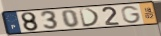0: (61, 9, 81, 29)
2: (102, 6, 121, 26)
3: (41, 10, 59, 31)
8: (20, 11, 39, 32)
D: (77, 7, 101, 28)
G: (120, 5, 142, 24)
